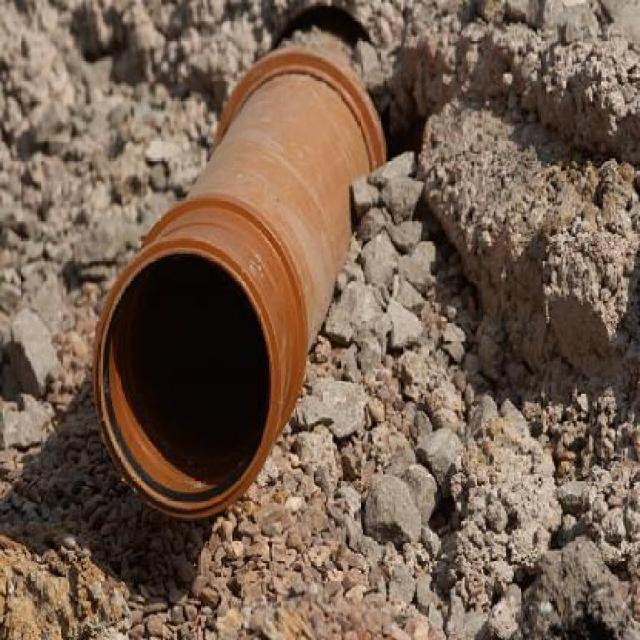pipe: (99, 243, 276, 516)
